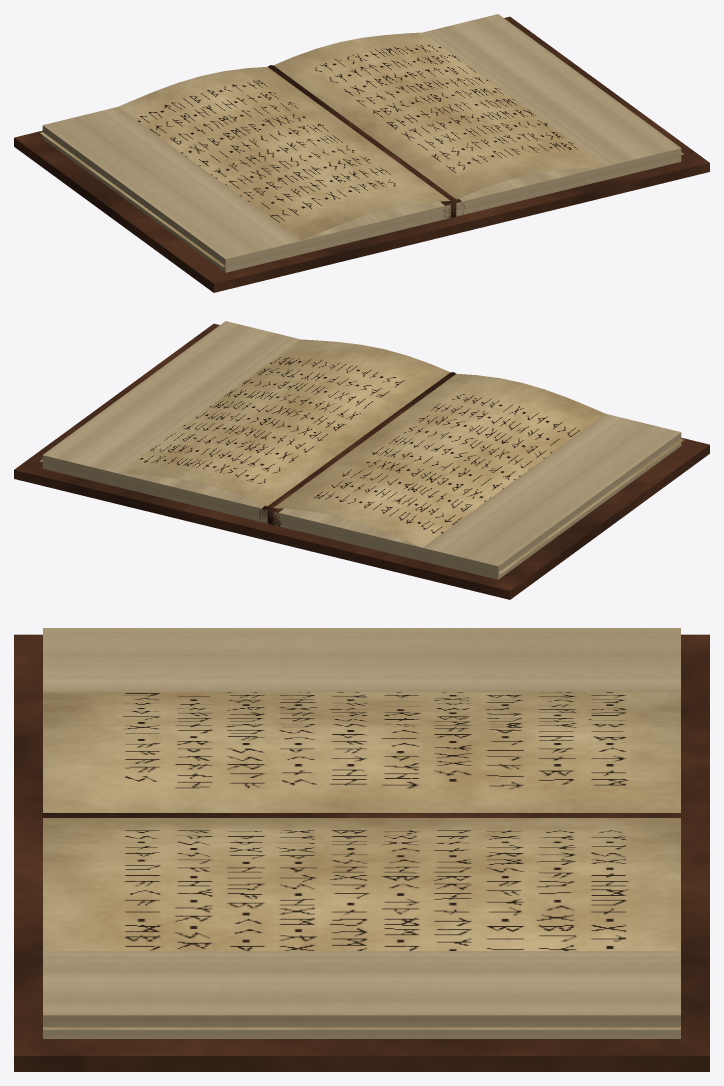
The model's file is openbook.glb.
3 views of the same model, one above another, from view 1: azimuth 30°, elevation 25°; view 2: azimuth 150°, elevation 25°; view 3: azimuth 270°, elevation 25° (orthographic). The views are drawn at different scales.
Visible parts, largest first — view 1: page-1, page1, block-1, block1, cover, spine; view 2: page-1, page1, block-1, block1, cover, spine; view 3: page1, page-1, block1, cover, block-1, spine.
Part boxes in pixels (x1=…): page-1: x1=40, y1=66, x2=450, y2=266; page1: x1=273, y1=32, x2=683, y2=199; block-1: x1=42, y1=107, x2=450, y2=272; block1: x1=423, y1=14, x2=681, y2=216; cover: x1=14, y1=16, x2=709, y2=292; spine: x1=268, y1=65, x2=464, y2=218; page-1: x1=273, y1=373, x2=683, y2=573; page1: x1=40, y1=339, x2=450, y2=506; block-1: x1=273, y1=414, x2=681, y2=579; block1: x1=42, y1=321, x2=300, y2=523; cover: x1=14, y1=323, x2=709, y2=599; spine: x1=259, y1=372, x2=455, y2=526; page1: x1=43, y1=818, x2=680, y2=1029; page-1: x1=43, y1=692, x2=680, y2=812; block1: x1=43, y1=951, x2=680, y2=1038; cover: x1=14, y1=634, x2=709, y2=1071; block-1: x1=43, y1=628, x2=680, y2=692; spine: x1=43, y1=813, x2=680, y2=817.
Size of the model in its own units: 0.344 by 0.022 by 0.24.
Materials: 4 (4 with a texture image).
